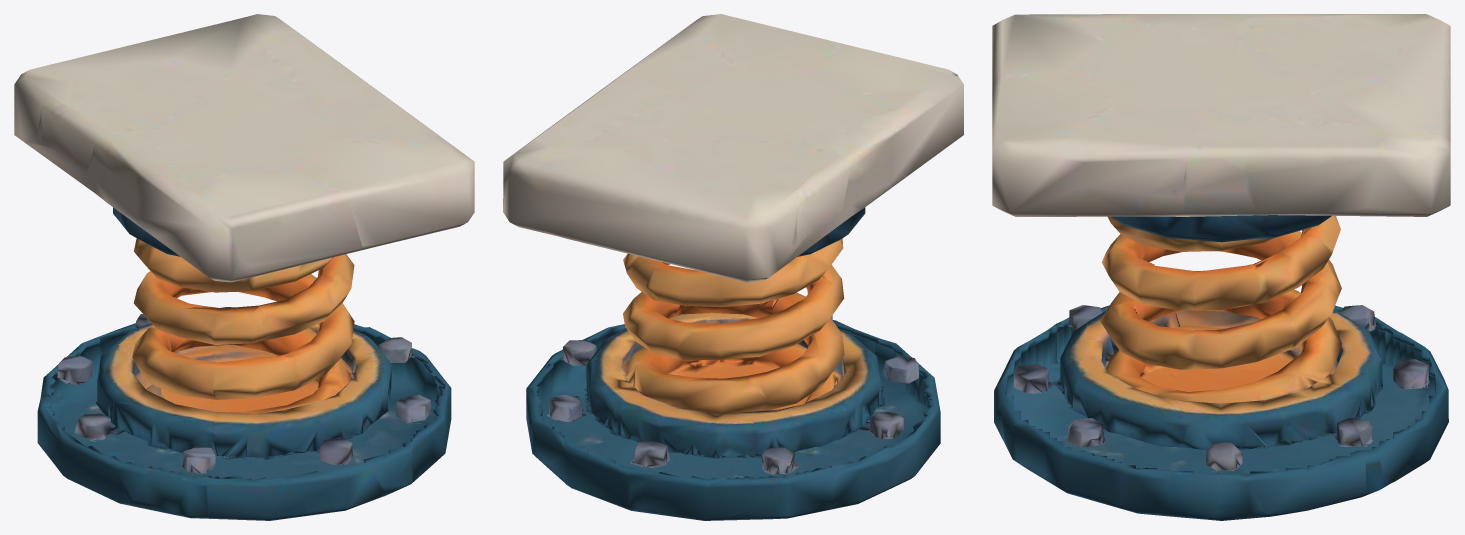
The model's file is m3d_resorte-g1.glb.
The picture shows the model from 3 angles, left to right: view 1: azimuth 30°, elevation 25°; view 2: azimuth 150°, elevation 25°; view 3: azimuth 270°, elevation 25°; orthographic projection. The views are drawn at different scales.
Parts seen in each view (by area): view 1: tripo_node_b1bd0117-c09d-498f-9d53-0788f3d5b9ed; view 2: tripo_node_b1bd0117-c09d-498f-9d53-0788f3d5b9ed; view 3: tripo_node_b1bd0117-c09d-498f-9d53-0788f3d5b9ed.
Part boxes in pixels (left/top/right/bottom): tripo_node_b1bd0117-c09d-498f-9d53-0788f3d5b9ed: left=14, top=14, right=474, bottom=520; tripo_node_b1bd0117-c09d-498f-9d53-0788f3d5b9ed: left=503, top=14, right=963, bottom=520; tripo_node_b1bd0117-c09d-498f-9d53-0788f3d5b9ed: left=992, top=14, right=1450, bottom=520.
Size of the model in its own units: 0.9924 by 0.8361 by 1.
Materials: 1 (1 with a texture image).
